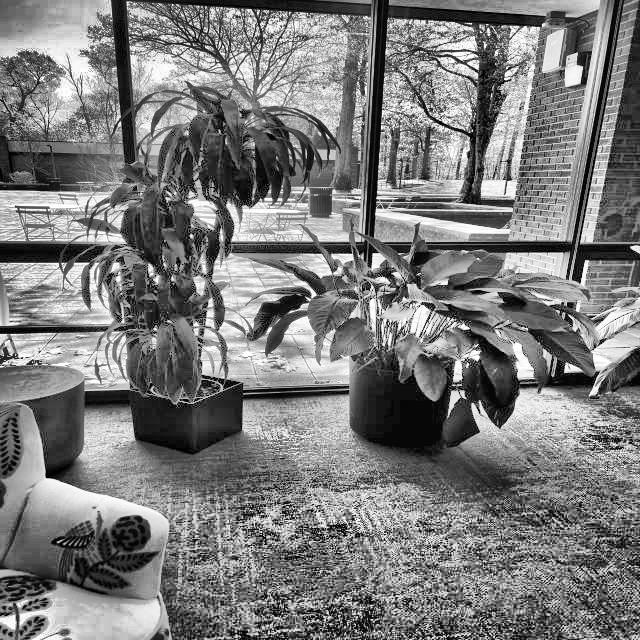plants: (328, 231, 582, 477), (73, 114, 263, 442)
